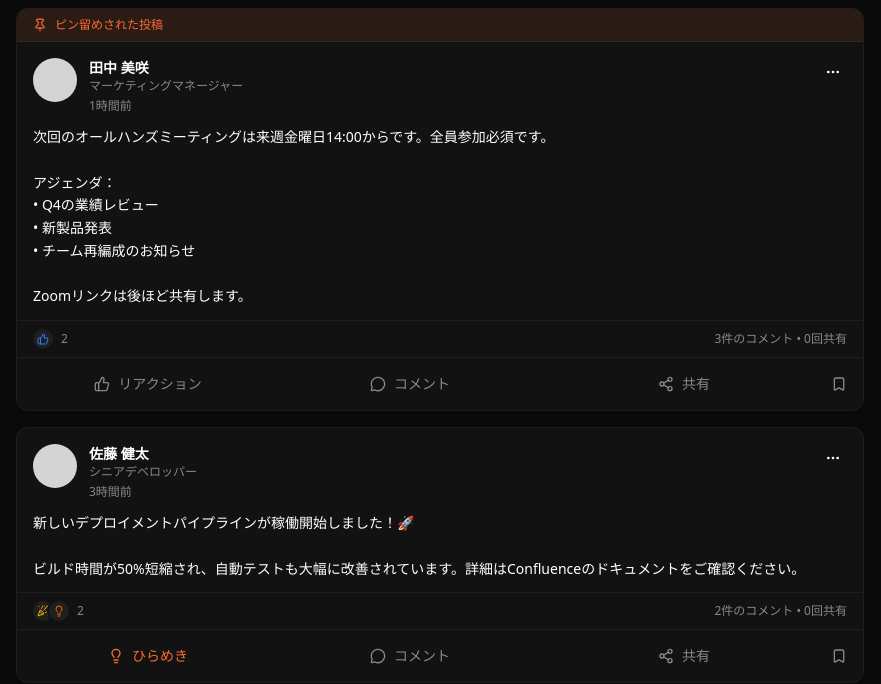
it: CommunityFeed / Interactions › should show reply input when reply button is clicked
This screenshot has width=881, height=684.
(page scrolled)
Step 1. Click the button "コメント" below "1時間前" → (410, 384), box [275,366,545,402]
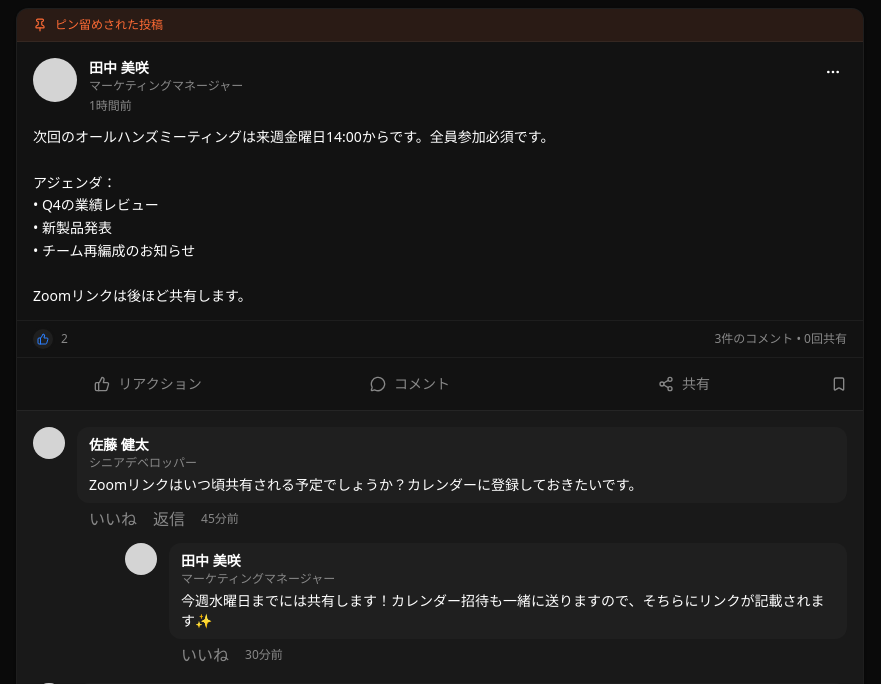
Step 2. Click the button "返信" next to "45分前" → (169, 519), box [153,507,185,531]
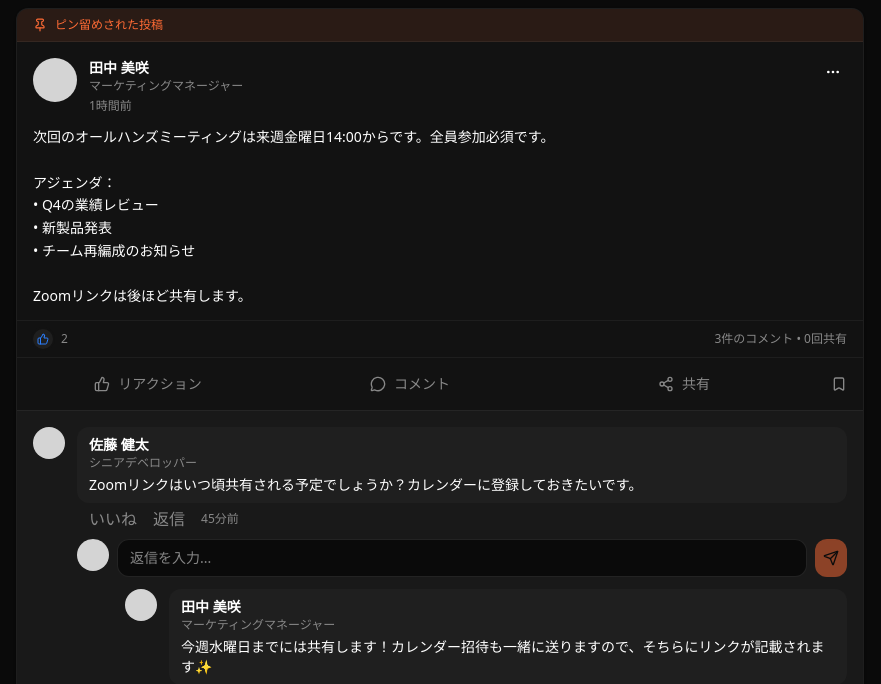
Expected: the field with placeholder "返信を入力..." is shown, [117,539,807,577]
